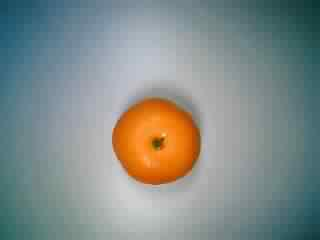orange: (106, 92, 204, 190)
